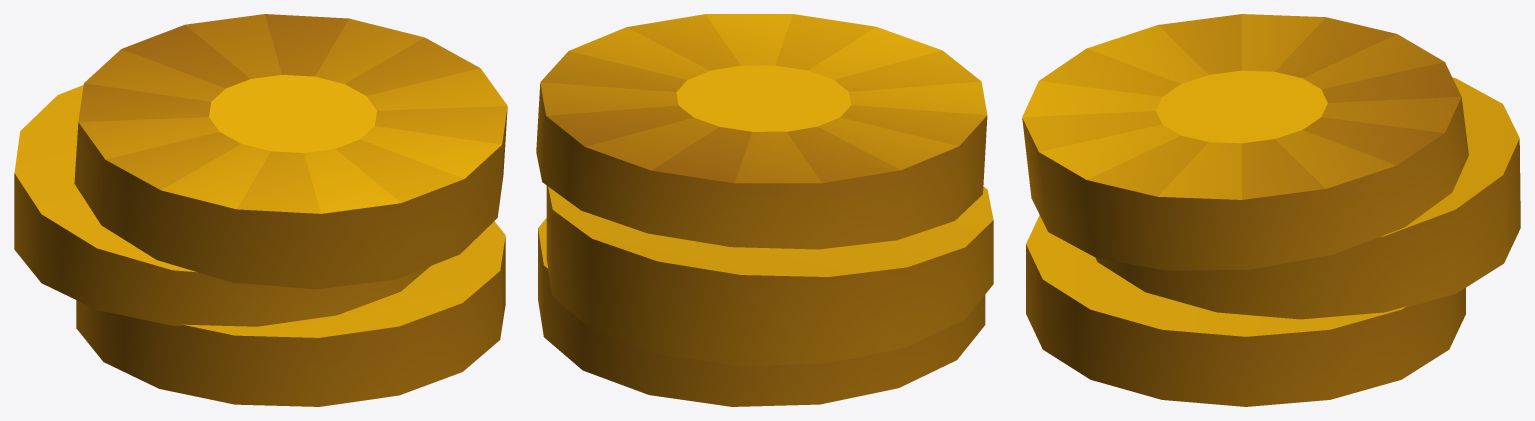
Rendered from 3D_Slicer_Items_Carrott-slice.fbx.
The picture shows the model from 3 angles, left to right: view 1: azimuth 30°, elevation 25°; view 2: azimuth 150°, elevation 25°; view 3: azimuth 270°, elevation 25°; orthographic projection. The views are drawn at different scales.
Visible parts, largest first — view 1: 3D_Slicer_Items_Carrott-slice; view 2: 3D_Slicer_Items_Carrott-slice; view 3: 3D_Slicer_Items_Carrott-slice.
Part boxes in pixels (x1,y1,x2,y2): 3D_Slicer_Items_Carrott-slice: (14,14,507,406); 3D_Slicer_Items_Carrott-slice: (536,14,993,406); 3D_Slicer_Items_Carrott-slice: (1022,14,1520,406).
Bounding box in the file's own units: 44.24 × 22.04 × 45.84.
